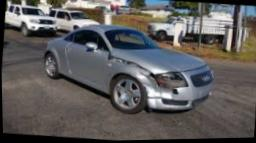Bumper: (143, 87, 199, 110)
Fender: (104, 51, 162, 98)
Light: (149, 72, 189, 89)
